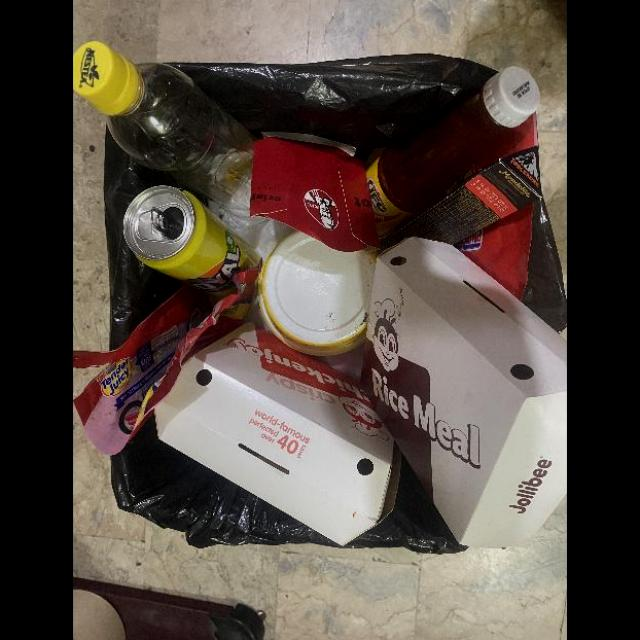bao_bi_thuc_pham: (73, 267, 261, 454)
carton: (358, 239, 567, 548), (152, 321, 404, 545), (379, 144, 542, 252), (248, 139, 377, 251)
chai_nhua_pet: (73, 43, 259, 223)
nhom: (124, 188, 266, 297)
